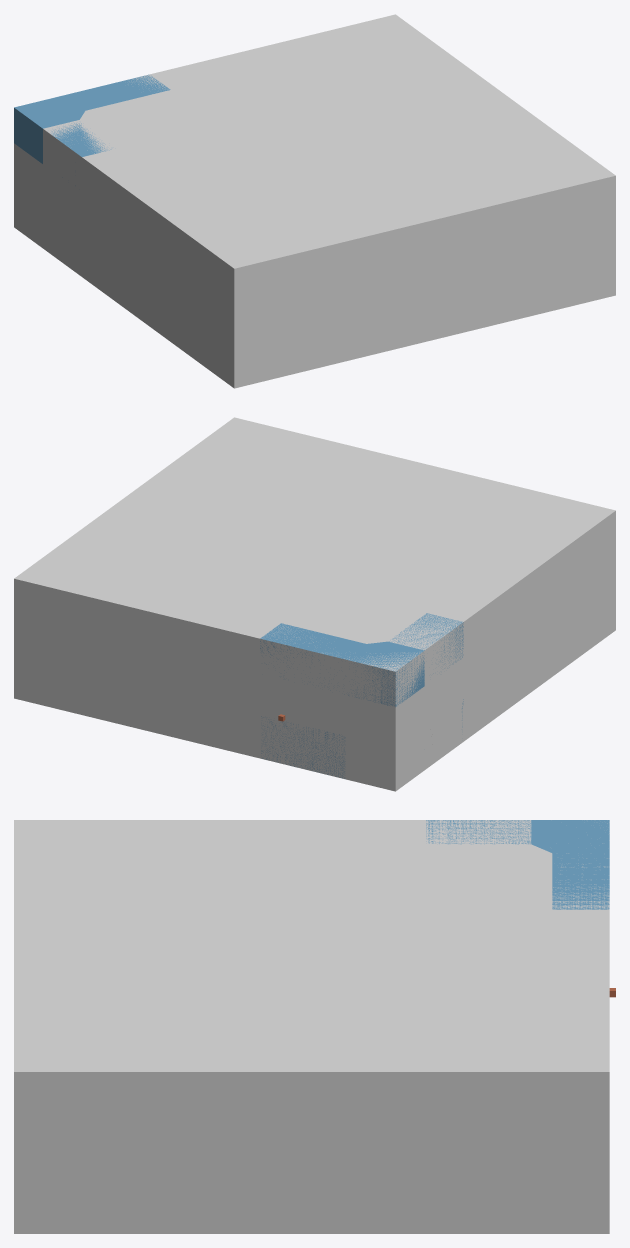
The model's file is kitchen_color_blockout.FBX.
3 views of the same model, one above another, from view 1: azimuth 30°, elevation 25°; view 2: azimuth 150°, elevation 25°; view 3: azimuth 270°, elevation 25° (orthographic). The views are drawn at different scales.
Parts seen in each view (by area): view 1: kitchen, cabinet004, Box001, microwave; view 2: kitchen, cabinet004, Box001, microwave, counter; view 3: kitchen, cabinet004, microwave.
Part boxes in pixels (x1=…): kitchen: x1=14, y1=14, x2=615, y2=388; cabinet004: x1=14, y1=74, x2=170, y2=163; Box001: x1=14, y1=184, x2=42, y2=245; microwave: x1=51, y1=123, x2=111, y2=185; kitchen: x1=14, y1=417, x2=615, y2=791; cabinet004: x1=260, y1=623, x2=424, y2=707; Box001: x1=345, y1=731, x2=418, y2=790; microwave: x1=389, y1=613, x2=463, y2=673; counter: x1=261, y1=716, x2=345, y2=778; kitchen: x1=14, y1=820, x2=609, y2=1233; cabinet004: x1=531, y1=820, x2=609, y2=909; microwave: x1=426, y1=820, x2=531, y2=844.
Bounding box in the file's own units: 20000 × 6000 × 20211.
